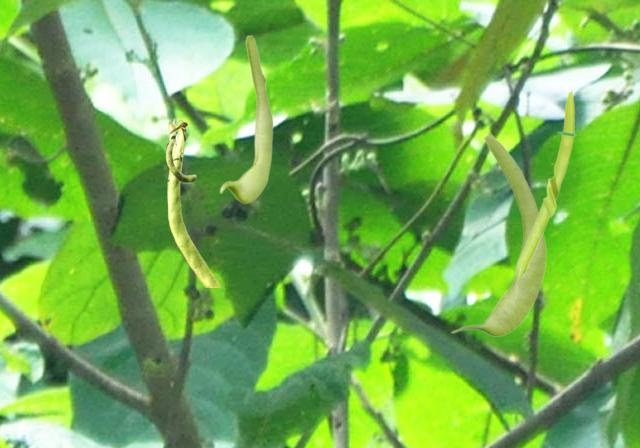french_bean: (450, 131, 546, 335), (512, 86, 576, 303), (165, 118, 220, 286), (219, 34, 272, 202)
